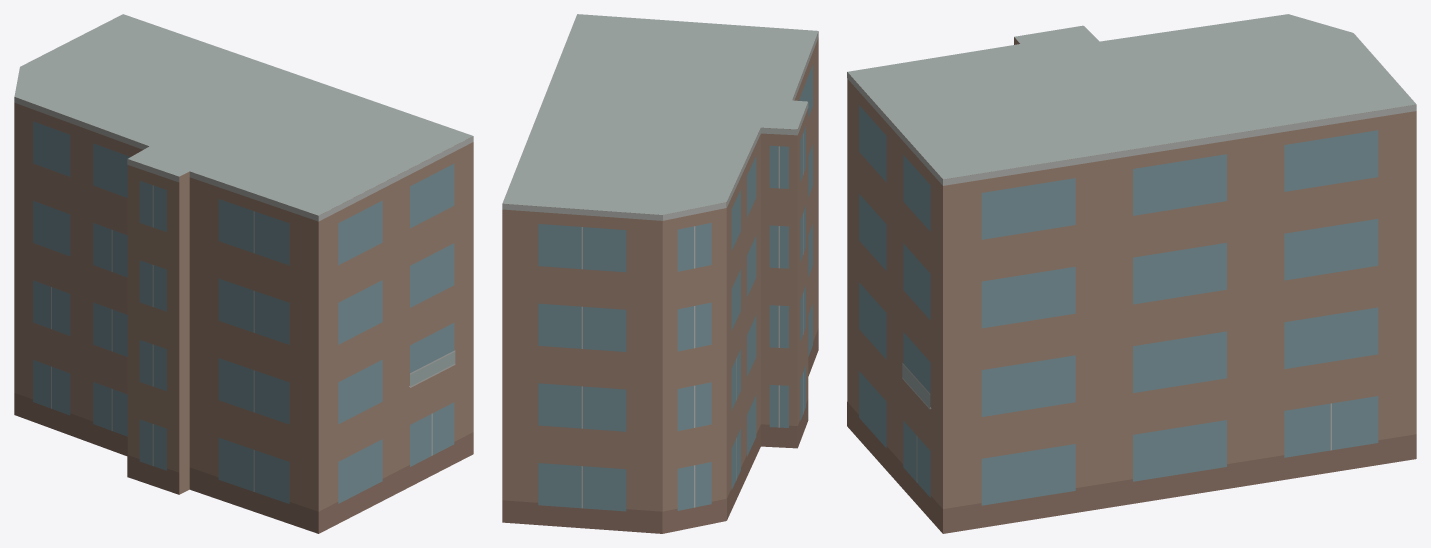
The model's file is survey-upis-32936361.glb.
3 views of the same model, side by side, from view 1: azimuth 30°, elevation 25°; view 2: azimuth 150°, elevation 25°; view 3: azimuth 270°, elevation 25° (orthographic). The views are drawn at different scales.
Visible parts, largest first — view 1: survey-upis-32936361.tmp; view 2: survey-upis-32936361.tmp; view 3: survey-upis-32936361.tmp.
Boxes of the visible parts, x1,y1,x2,y2 form: survey-upis-32936361.tmp: [14, 14, 473, 533]; survey-upis-32936361.tmp: [502, 14, 818, 533]; survey-upis-32936361.tmp: [847, 14, 1416, 533].
Bounding box in the file's own units: 13.27 × 13.25 × 19.3.
